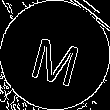M_N: (26, 25, 84, 85)
